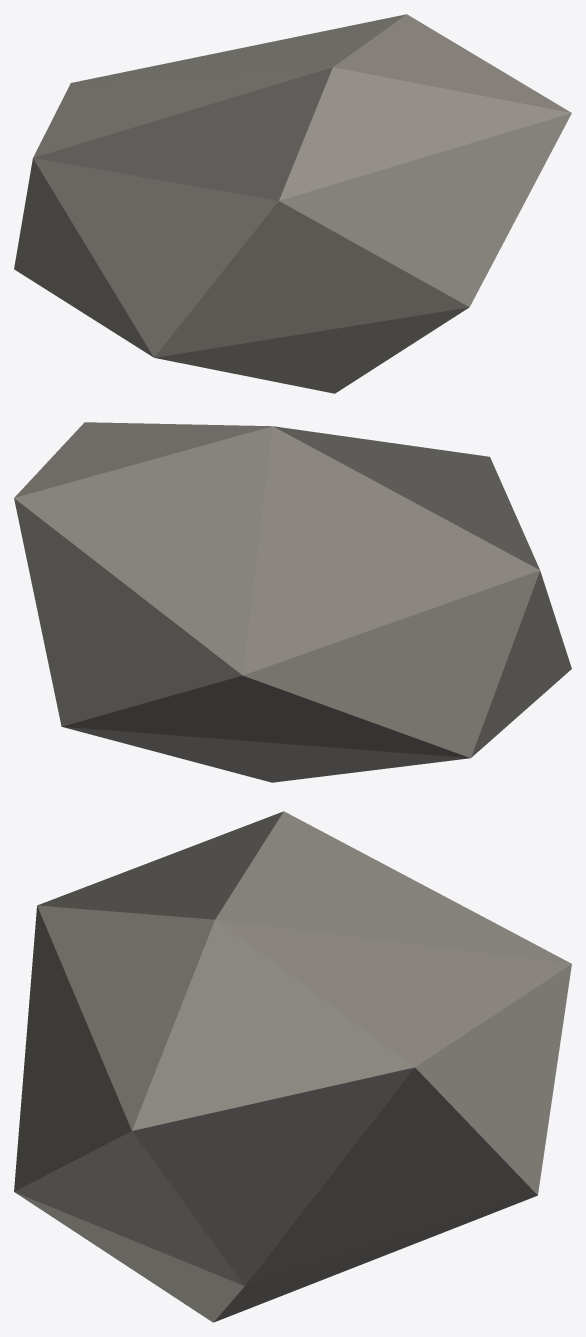
Rendered from SM_Rock.fbx.
3 views of the same model, one above another, from view 1: azimuth 30°, elevation 25°; view 2: azimuth 150°, elevation 25°; view 3: azimuth 270°, elevation 25° (orthographic). The views are drawn at different scales.
Visible parts, largest first — view 1: SM_Rock; view 2: SM_Rock; view 3: SM_Rock.
Boxes of the visible parts, x1=… form: SM_Rock: x1=14, y1=14, x2=571, y2=393; SM_Rock: x1=14, y1=422, x2=571, y2=782; SM_Rock: x1=14, y1=811, x2=571, y2=1322.
Size of the model in its own units: 2.23 by 1.83 by 1.46.
